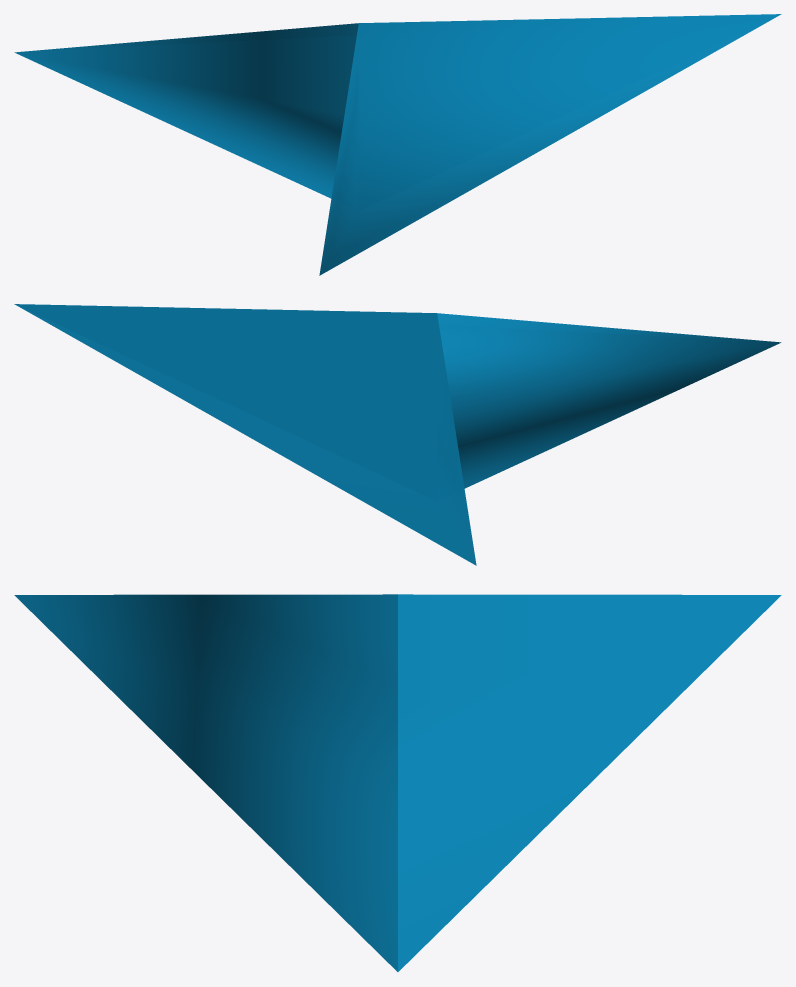
The model's file is ArrowIndicator.fbx.
3 views of the same model, one above another, from view 1: azimuth 30°, elevation 25°; view 2: azimuth 150°, elevation 25°; view 3: azimuth 270°, elevation 25° (orthographic). The views are drawn at different scales.
Visible parts, largest first — view 1: arrow_model; view 2: arrow_model; view 3: arrow_model.
Part boxes in pixels (bbox=[...]): arrow_model: bbox=[14, 14, 781, 275]; arrow_model: bbox=[14, 304, 781, 565]; arrow_model: bbox=[14, 594, 781, 971].
Size of the model in its own units: 17.1 by 5 by 14.7.
